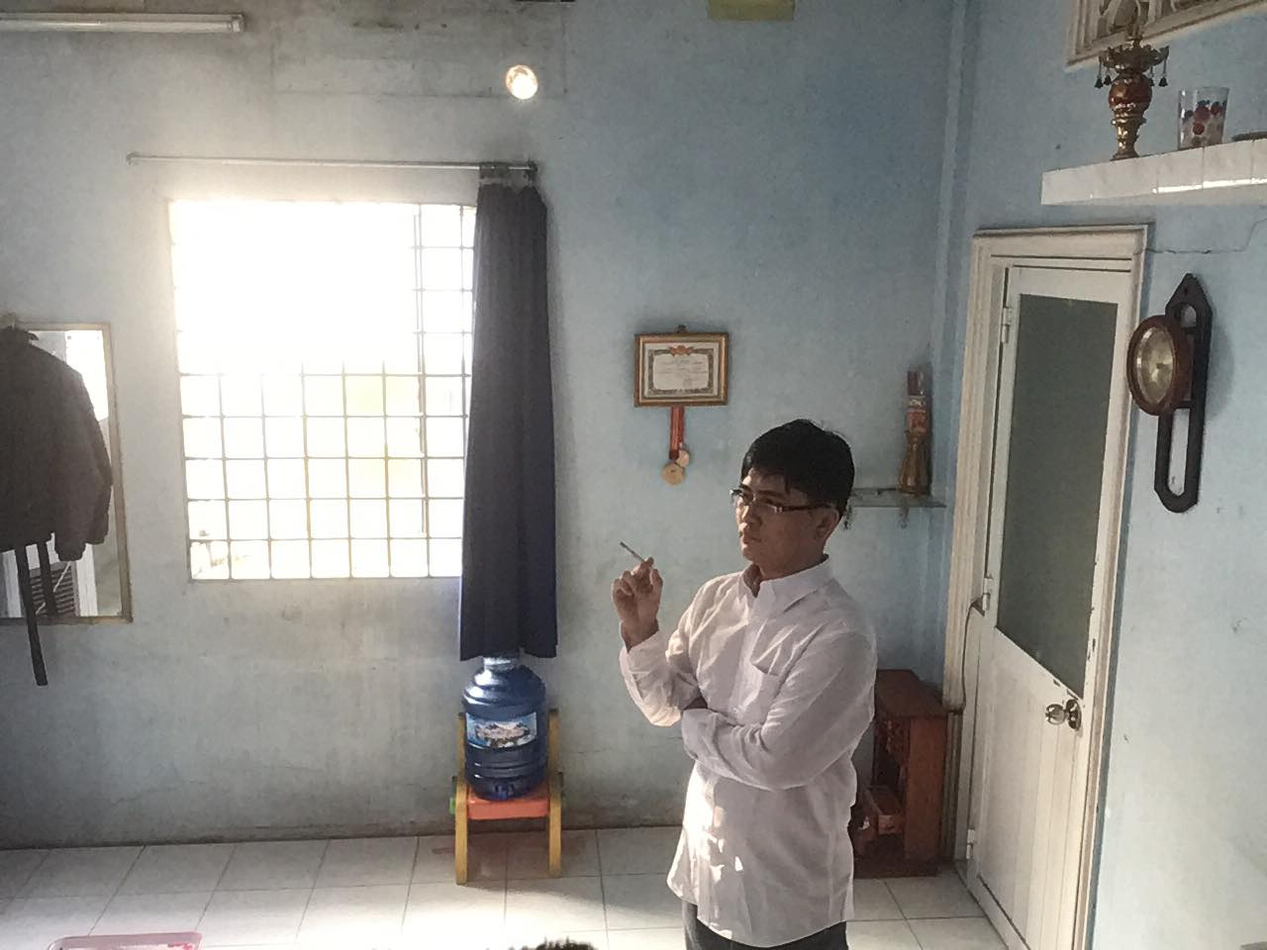cigarette: (616, 536, 652, 571)
person: (580, 405, 919, 950)
